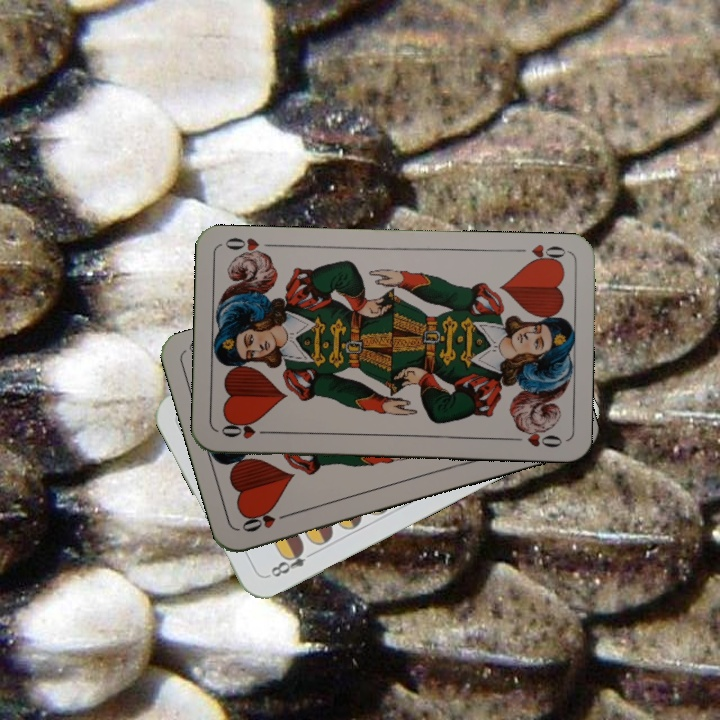E8: (263, 542, 318, 580)
HO: (237, 507, 295, 535), (511, 240, 569, 267), (217, 418, 275, 442)
